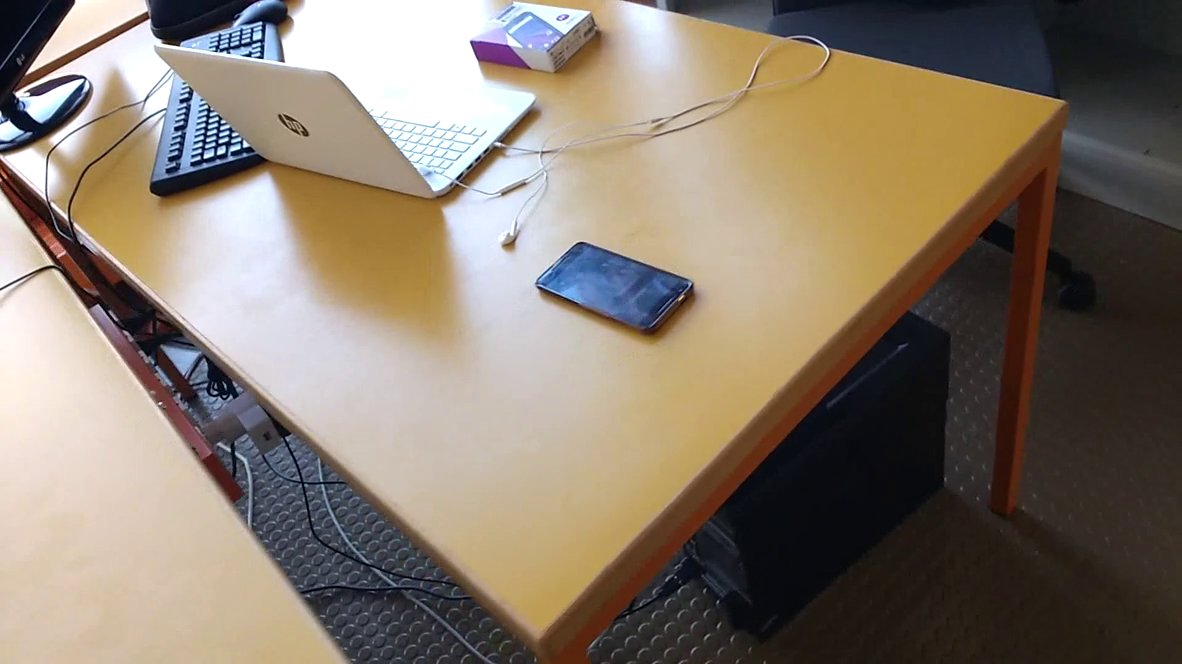laptop: (144, 35, 545, 213)
phone: (526, 237, 706, 347)
